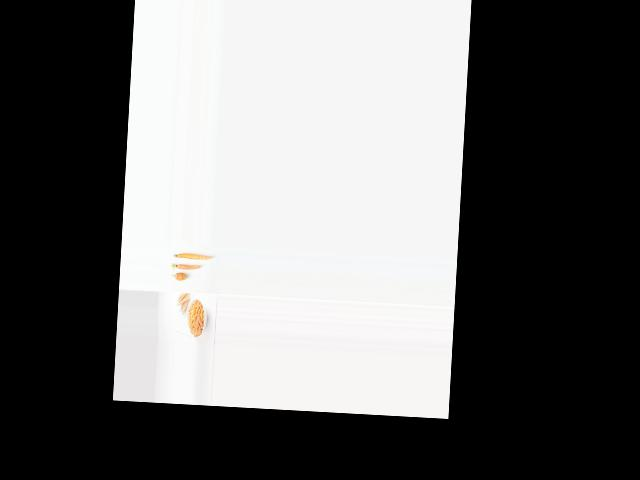carrot: (171, 272, 191, 282)
